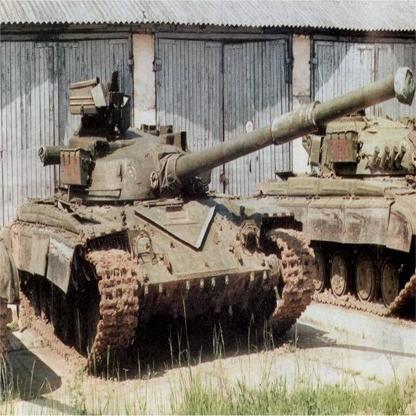Tank: (12, 68, 416, 364)
